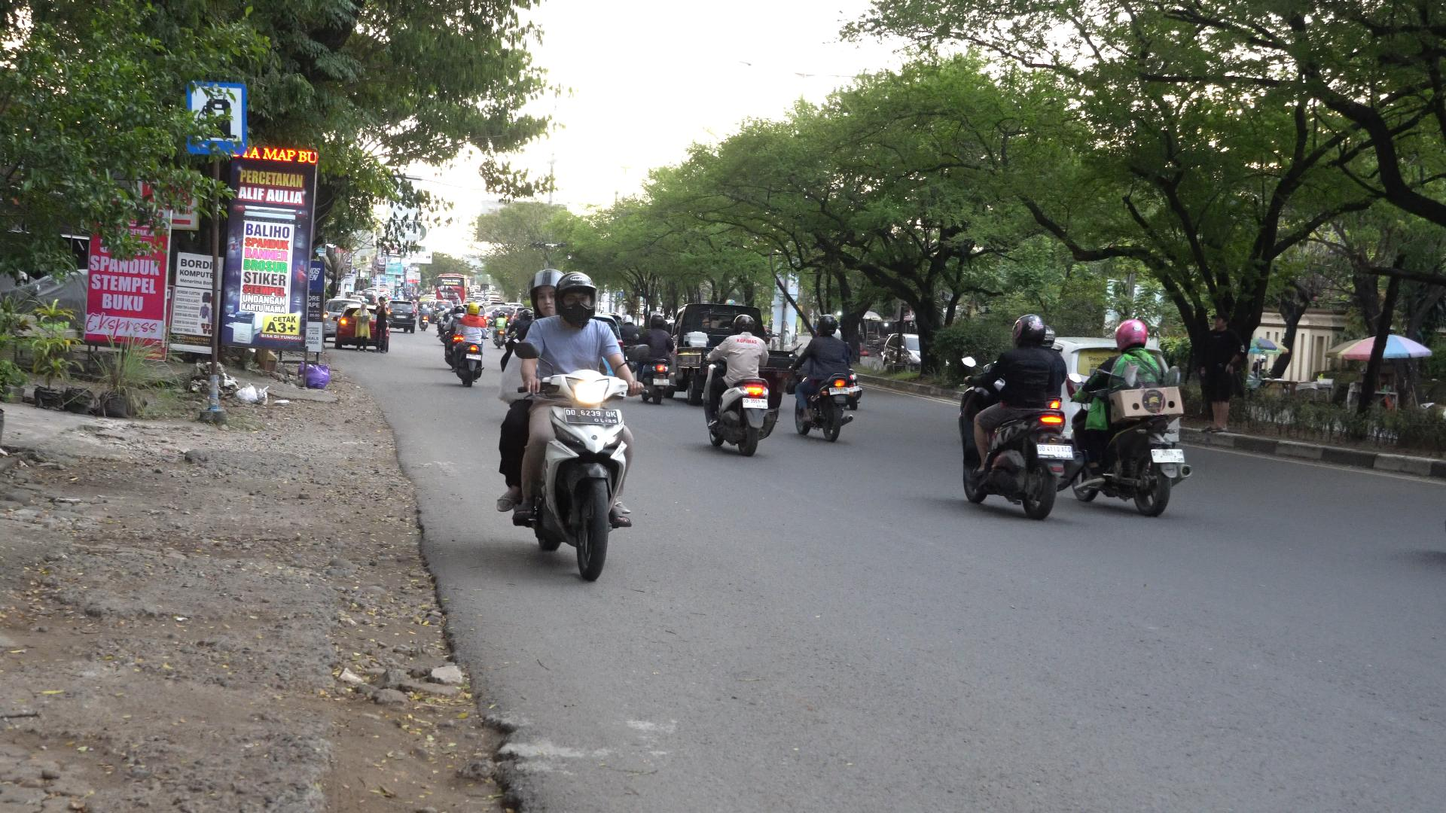number-plate: (565, 407, 621, 425)
